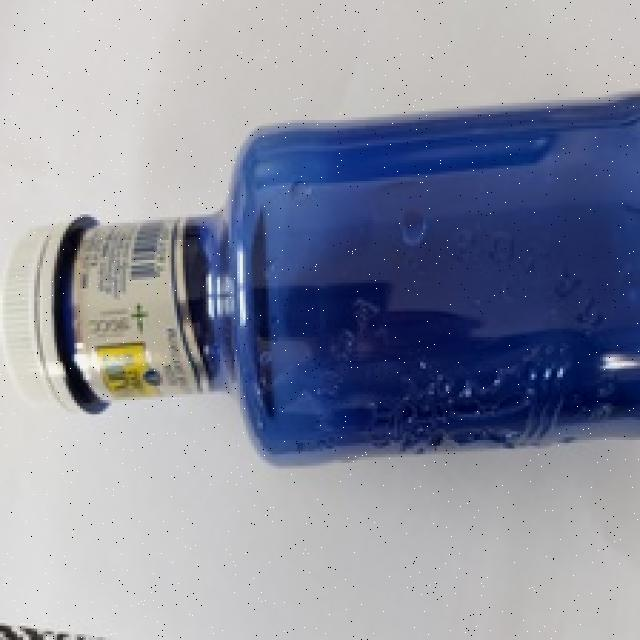bottle: (8, 93, 640, 500)
